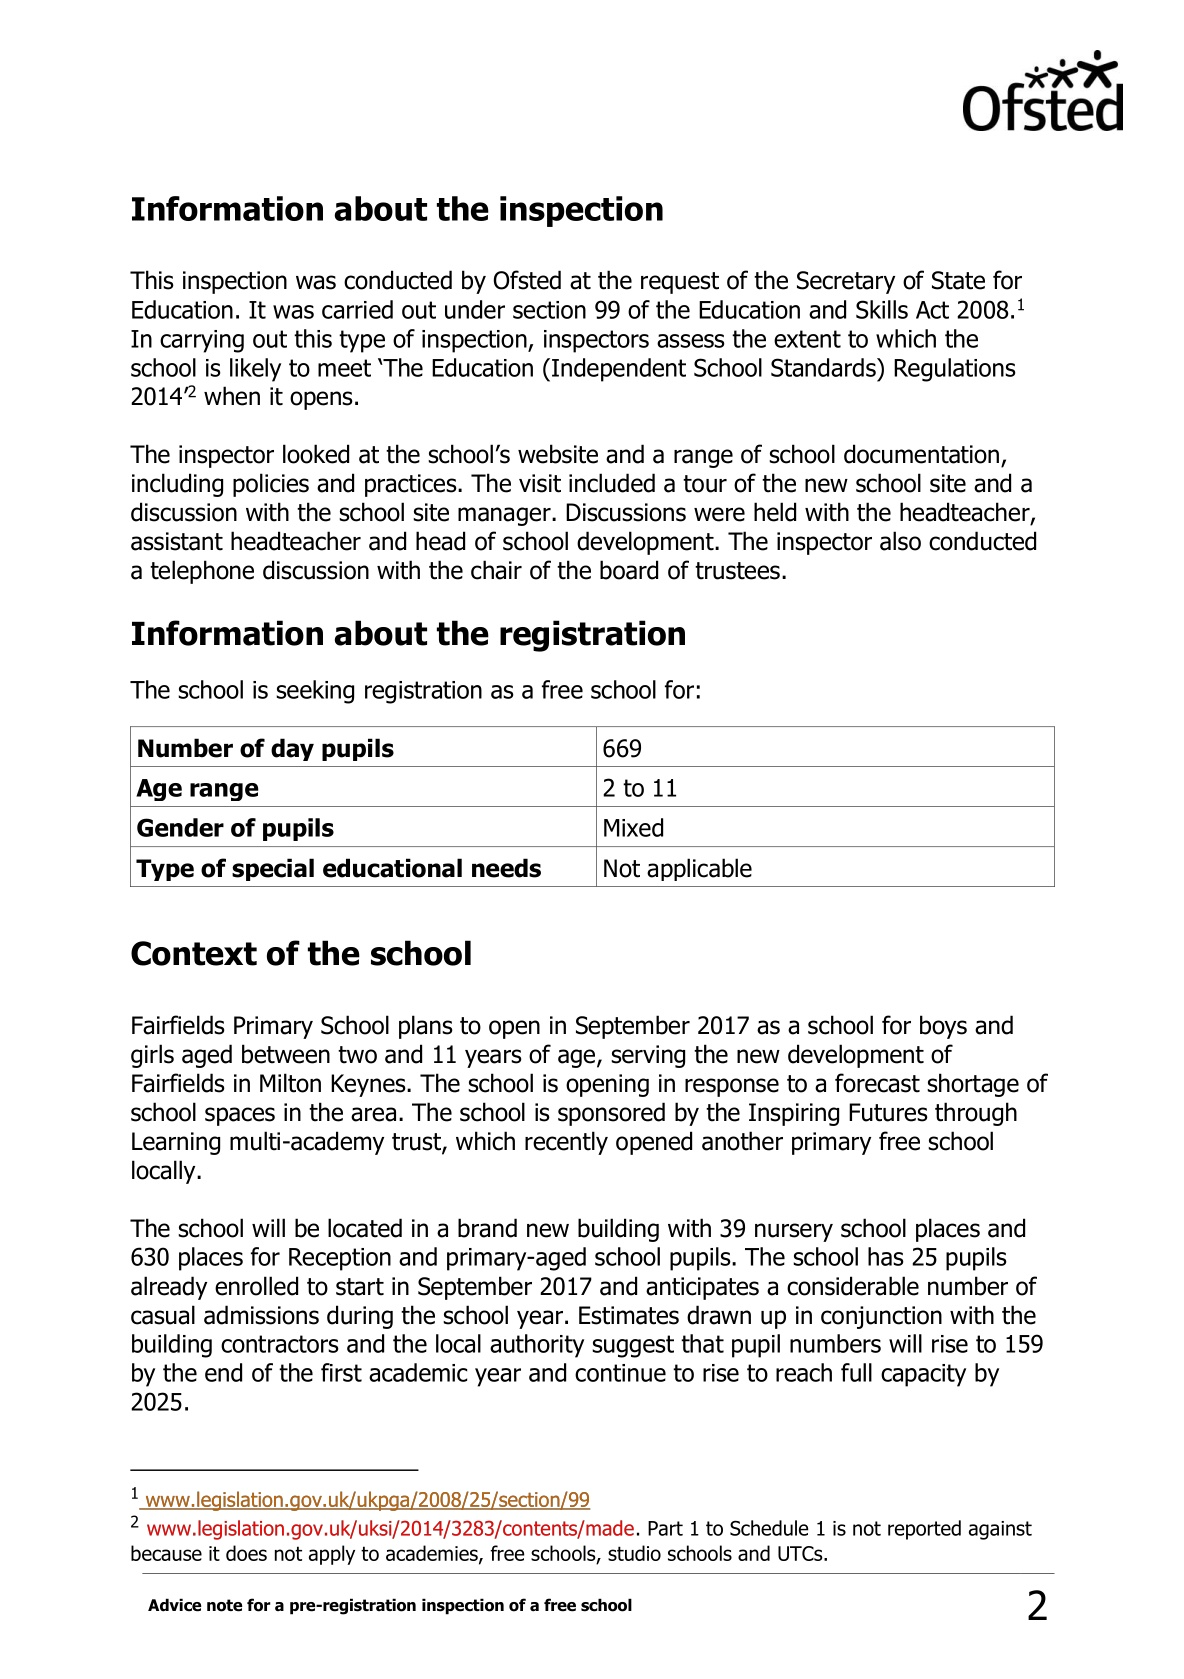full_lined: (129, 725, 1056, 889)
